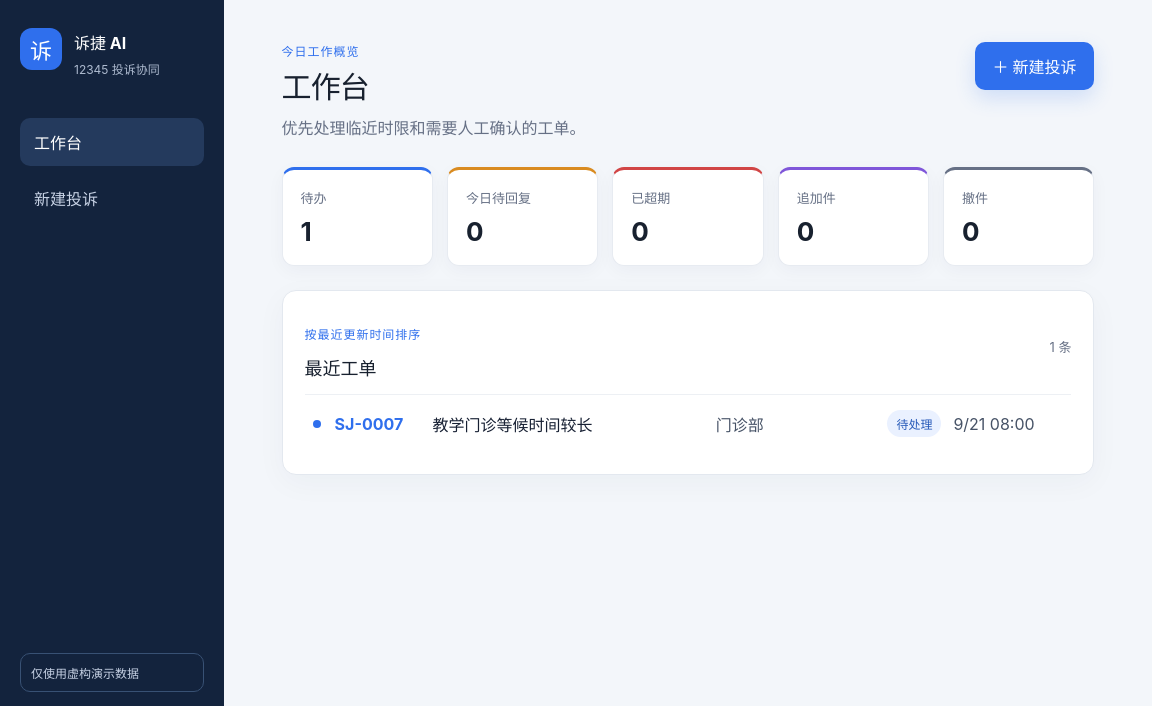
Test: 诉捷工作台 › shows every required queue and opens a recent case
Check: the heading "工作台" is shown, box [282,69,369,105]
Check: the text "待办" is shown, box [301,190,327,206]
Click the button "SJ-0007 教学门诊等候时间较长 门诊部 待处理 9/21 08:00" at [383, 424], box [305,394,1071,452]
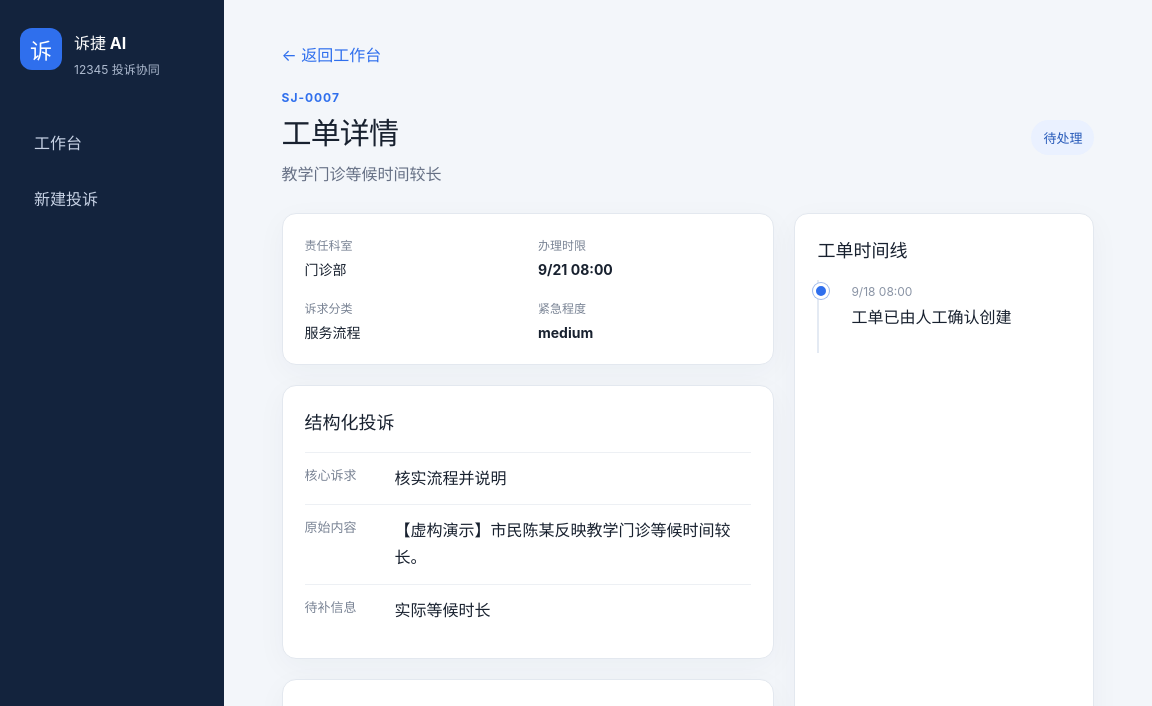
Check: the heading "工单详情" is shown, box [282,115,398,151]
Check: the text "工单已由人工确认创建" is shown, box [851,307,1011,327]
